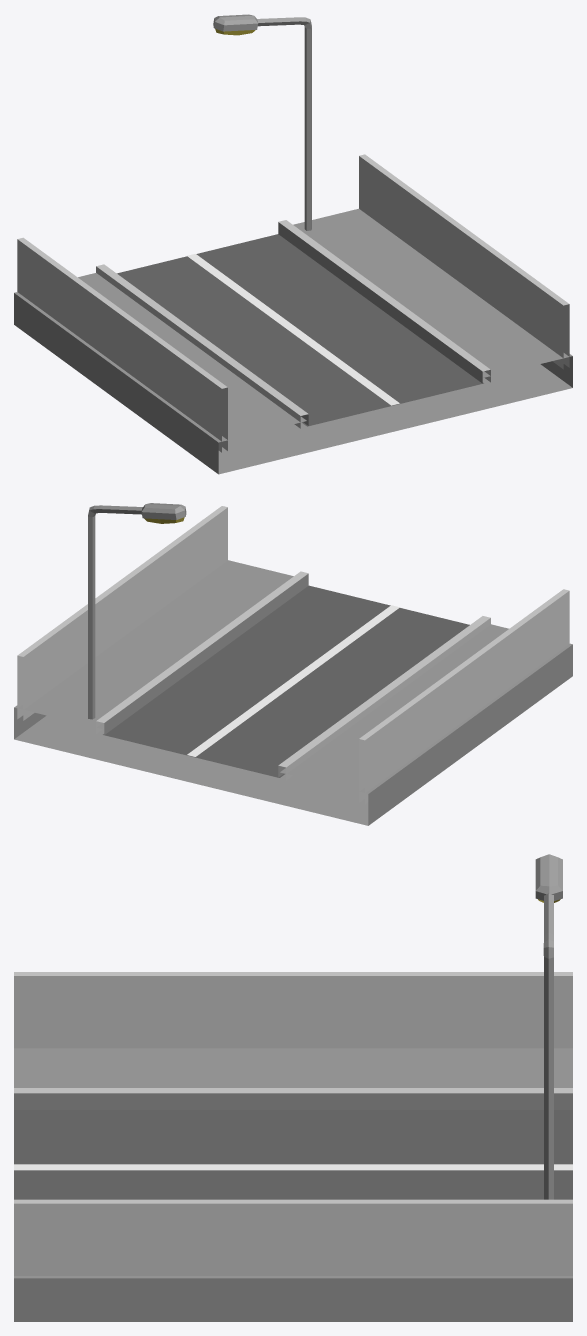
The model's file is road_tile_bridge_1x1_004.fbx.
3 renders of one model, top to bottom at view 1: azimuth 30°, elevation 25°; view 2: azimuth 150°, elevation 25°; view 3: azimuth 270°, elevation 25°, orthographic. The views are drawn at different scales.
Visible parts, largest first — view 1: road_tile_bridge_1x1_004; view 2: road_tile_bridge_1x1_004; view 3: road_tile_bridge_1x1_004.
Part boxes in pixels (x1,y1,x2,y2): road_tile_bridge_1x1_004: (14, 14, 572, 474); road_tile_bridge_1x1_004: (14, 503, 572, 825); road_tile_bridge_1x1_004: (14, 854, 572, 1321).
Size of the model in its own units: 800 by 573 by 800.
